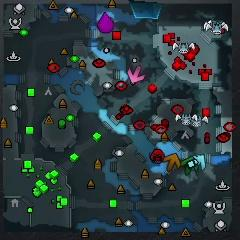p3: (98, 13, 114, 34)
x1: (128, 65, 146, 83)
x3: (192, 155, 207, 173)
x4: (182, 156, 198, 175)
x5: (164, 152, 182, 171)
